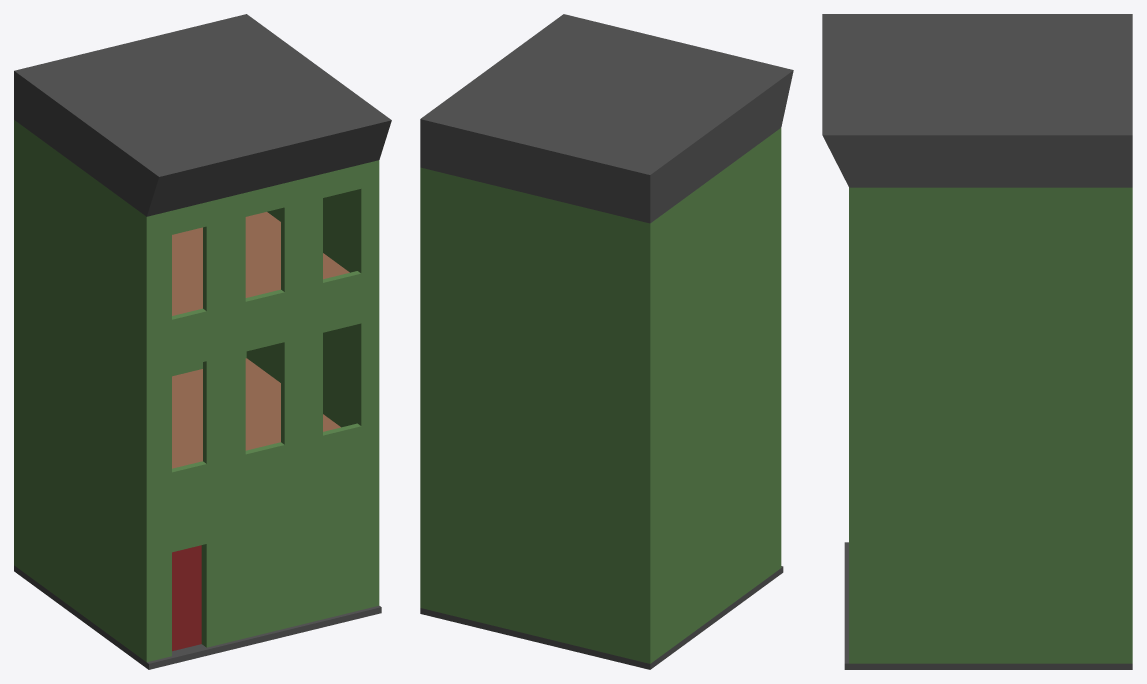
Rendered from two floor building.fbx.
3 views of the same model, side by side, from view 1: azimuth 30°, elevation 25°; view 2: azimuth 150°, elevation 25°; view 3: azimuth 270°, elevation 25° (orthographic). The views are drawn at different scales.
Visible parts, largest first — view 1: Plane; view 2: Plane; view 3: Plane.
Part boxes in pixels (x1,y1,x2,y2): Plane: (14,14,391,669); Plane: (420,14,793,669); Plane: (822,14,1132,669).
Bounding box in the file's own units: 488 × 1003 × 527.
